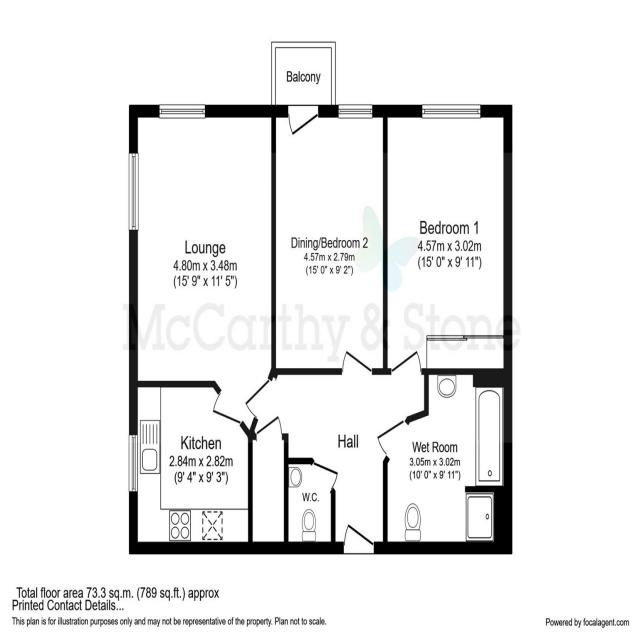DOOR: (376, 418, 410, 461), (244, 377, 273, 421), (212, 389, 244, 426), (287, 104, 319, 137), (343, 523, 375, 555), (310, 460, 340, 493), (390, 348, 423, 376), (341, 350, 373, 376), (256, 415, 283, 441)
ROOM: (129, 104, 277, 440), (383, 104, 513, 388), (271, 104, 388, 375), (129, 380, 253, 555)
WINDOW: (421, 102, 482, 120), (128, 153, 139, 231), (159, 104, 206, 119), (128, 434, 138, 493), (338, 104, 373, 119)
